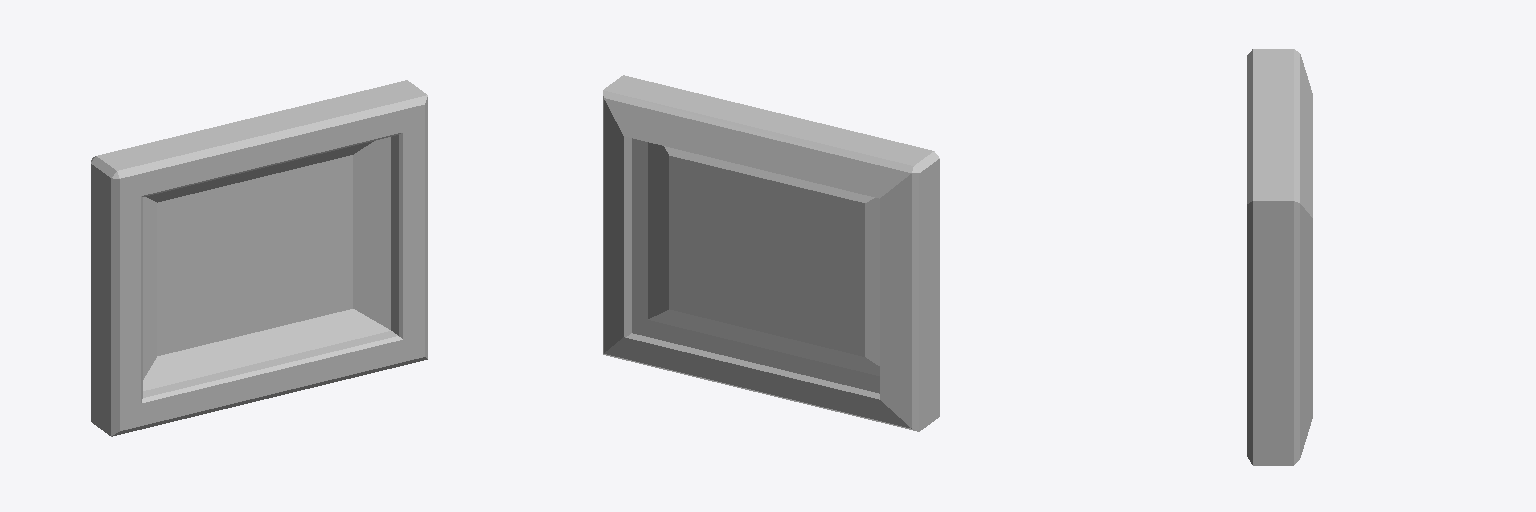
The model's file is floodlight.obj.
3 renders of one model, left to right at view 1: azimuth 30°, elevation 25°; view 2: azimuth 150°, elevation 25°; view 3: azimuth 270°, elevation 25°, orthographic.
Parts seen in each view (by area): view 1: Floodlight; view 2: Floodlight; view 3: Floodlight.
Part boxes in pixels (x1,y1,x2,y2): Floodlight: (91,80,427,436); Floodlight: (603,75,939,431); Floodlight: (1247,49,1312,465).
Size of the model in its own units: 35.47 by 28.3 by 6.32.